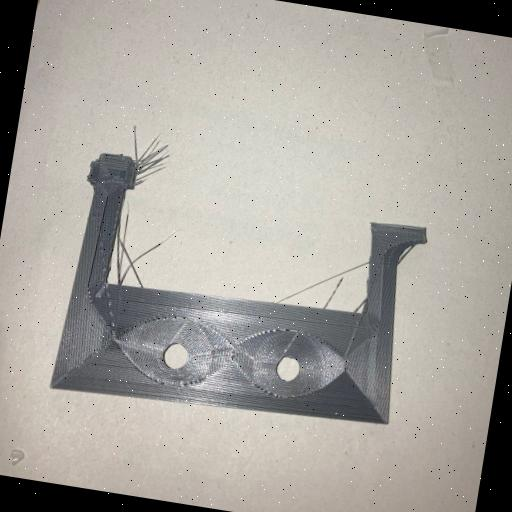stringing: (106, 222, 151, 286), (130, 131, 178, 181)
